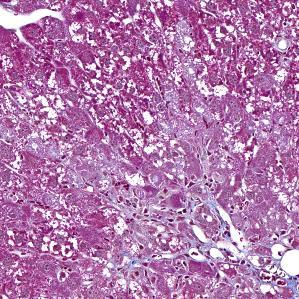fibrosis: (156, 203, 215, 230)
